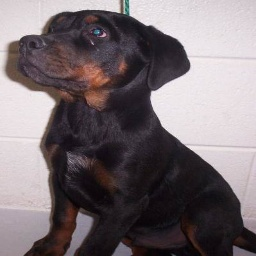dog: (15, 8, 245, 254)
